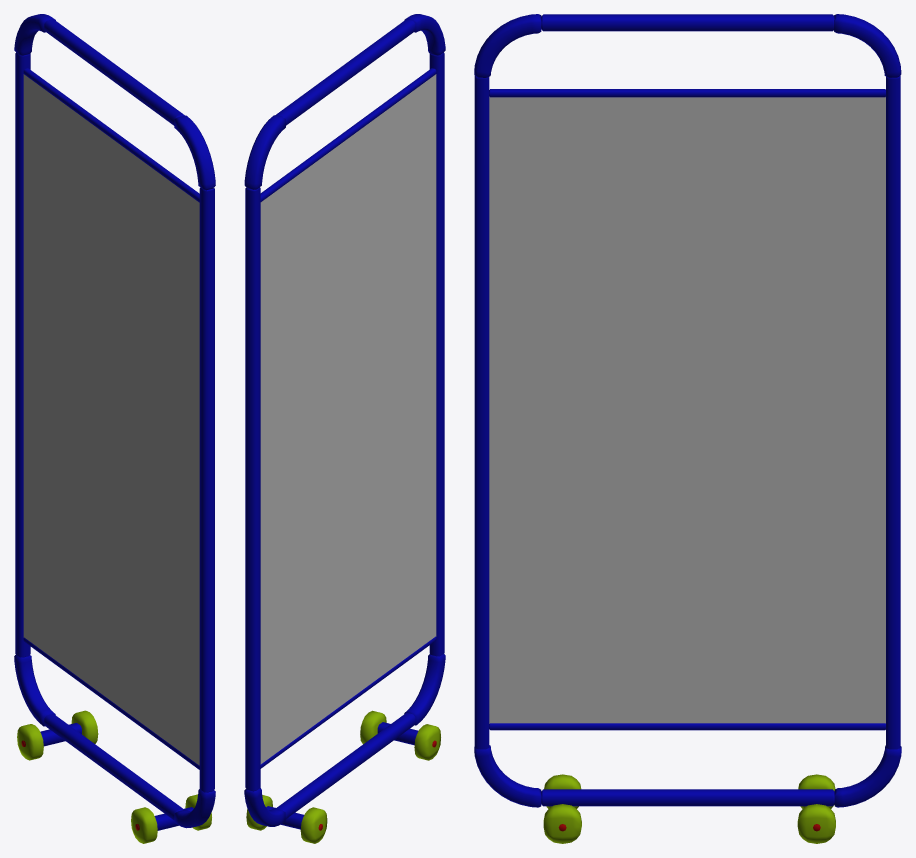
Rendered from screen2.fbx.
The picture shows the model from 3 angles, left to right: view 1: azimuth 30°, elevation 25°; view 2: azimuth 150°, elevation 25°; view 3: azimuth 270°, elevation 25°; orthographic projection. The views are drawn at different scales.
Parts seen in each view (by area): view 1: pasted__polySurface2, pasted__polySurface13, pasted__polySurface7, pasted__polySurface1, pasted__polySurface16, pasted__polySurface4, pasted__polySurface15, pasted__polySurface9, pasted__polySurface8, pasted__polySurface14, pasted__polySurface12, pasted__polySurface10 (+2 smaller); view 2: pasted__polySurface2, pasted__polySurface7, pasted__polySurface13, pasted__polySurface1, pasted__polySurface16, pasted__polySurface4, pasted__polySurface12, pasted__polySurface8, pasted__polySurface9, pasted__polySurface14, pasted__polySurface15, pasted__polySurface10 (+2 smaller); view 3: pasted__polySurface3, pasted__polySurface13, pasted__polySurface7, pasted__polySurface1, pasted__polySurface16, pasted__polySurface4, pasted__polySurface14, pasted__polySurface15, pasted__polySurface12, pasted__polySurface8, pasted__polySurface9, pasted__polySurface17 (+1 smaller).
Boxes of the visible parts, <box> form: pasted__polySurface2: <box>23,74,199,765</box>; pasted__polySurface13: <box>199,187,214,792</box>; pasted__polySurface7: <box>15,52,30,657</box>; pasted__polySurface1: <box>44,19,184,125</box>; pasted__polySurface16: <box>44,713,184,820</box>; pasted__polySurface4: <box>23,68,199,202</box>; pasted__polySurface15: <box>174,115,215,190</box>; pasted__polySurface9: <box>14,655,55,726</box>; pasted__polySurface8: <box>174,789,215,828</box>; pasted__polySurface14: <box>23,637,199,769</box>; pasted__polySurface12: <box>14,14,55,55</box>; pasted__polySurface10: <box>17,724,43,760</box>; pasted__polySurface2: <box>260,74,436,764</box>; pasted__polySurface7: <box>245,187,260,791</box>; pasted__polySurface13: <box>429,52,444,656</box>; pasted__polySurface1: <box>275,19,415,125</box>; pasted__polySurface16: <box>276,713,415,819</box>; pasted__polySurface4: <box>260,68,436,201</box>; pasted__polySurface12: <box>244,115,285,189</box>; pasted__polySurface8: <box>404,654,445,725</box>; pasted__polySurface9: <box>244,788,285,826</box>; pasted__polySurface14: <box>260,636,436,768</box>; pasted__polySurface15: <box>404,14,445,55</box>; pasted__polySurface10: <box>300,807,327,843</box>; pasted__polySurface3: <box>489,96,885,723</box>; pasted__polySurface13: <box>474,75,489,749</box>; pasted__polySurface7: <box>886,75,900,749</box>; pasted__polySurface1: <box>541,14,834,31</box>; pasted__polySurface16: <box>541,789,834,806</box>; pasted__polySurface4: <box>489,89,885,97</box>; pasted__polySurface14: <box>489,723,885,730</box>; pasted__polySurface15: <box>474,14,541,77</box>; pasted__polySurface12: <box>834,14,901,77</box>; pasted__polySurface8: <box>474,745,541,807</box>; pasted__polySurface9: <box>834,745,901,807</box>; pasted__polySurface17: <box>543,804,581,843</box>.
Size of the model in its own units: 2.42 by 24.31 by 11.62.
